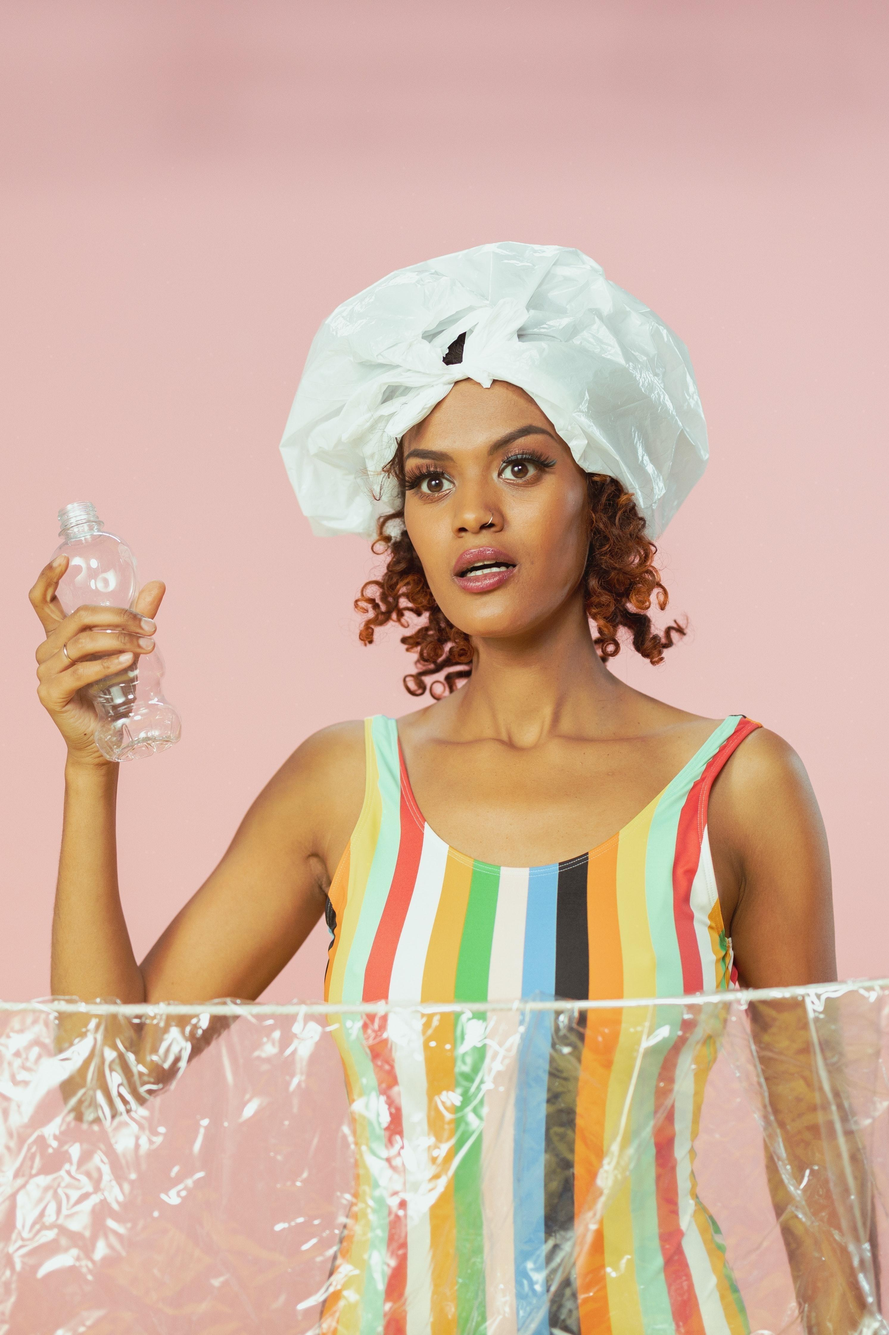bottle-plastic: (47, 496, 191, 770)
